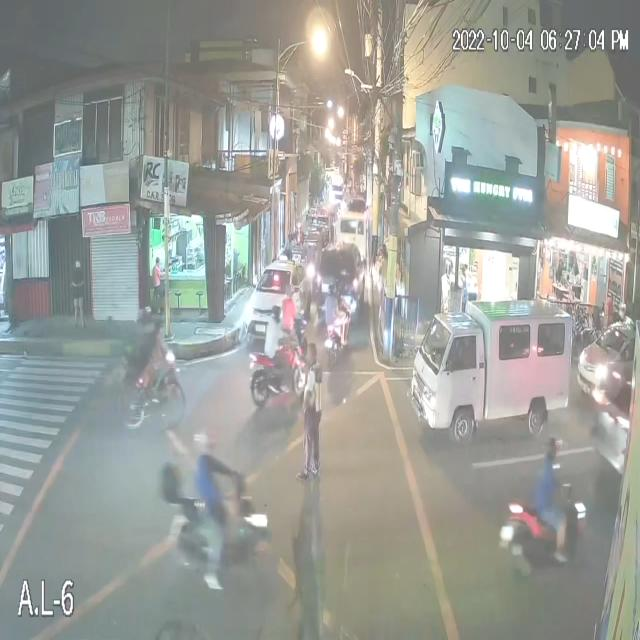Full-Faced: (195, 422, 218, 454), (542, 436, 566, 466), (268, 301, 283, 324)
